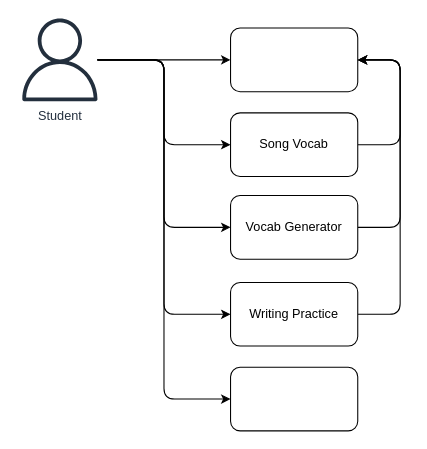
This 427x449 diagram has some shape labels left out. Here are the shapes that lost their labels. From the top down, the centre of each, then its label:
(293,59): Lang Portal
(293,398): Haiku Generator
